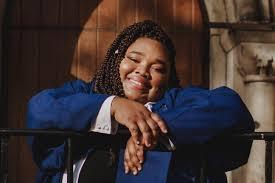Persons: (94, 14, 187, 109)
